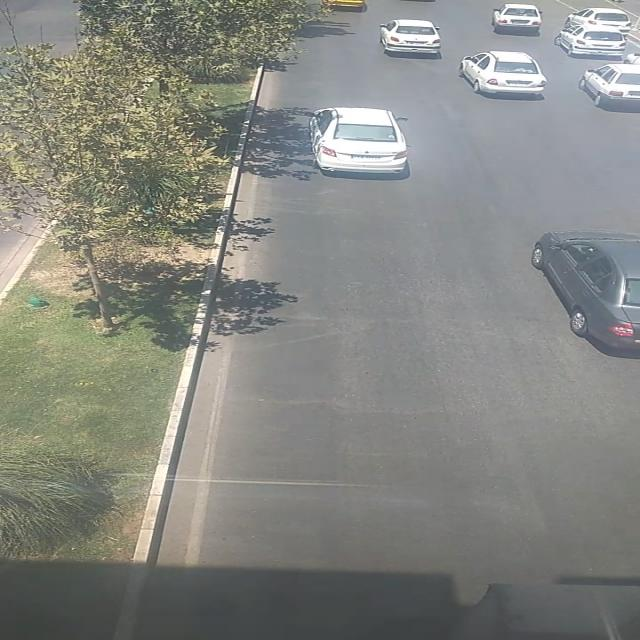car: (532, 229, 640, 352), (310, 109, 403, 172), (458, 52, 546, 90), (580, 64, 640, 106), (383, 19, 444, 55), (556, 26, 626, 56), (563, 9, 633, 31), (492, 4, 542, 34)
